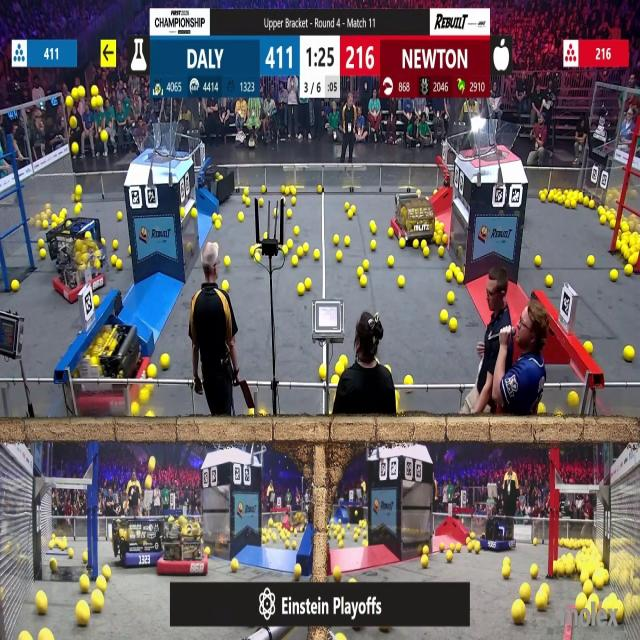ball_airborne: (76, 88, 85, 99), (148, 457, 155, 471), (66, 96, 74, 108), (145, 478, 152, 490), (92, 87, 100, 97), (99, 131, 105, 144), (96, 97, 103, 108), (72, 142, 78, 154), (70, 116, 76, 127), (75, 204, 81, 215), (76, 184, 82, 194)
ball_ground: (76, 606, 89, 628), (514, 601, 526, 624), (36, 593, 48, 614), (94, 592, 105, 612), (520, 585, 531, 603), (536, 593, 546, 611), (625, 346, 635, 362), (568, 392, 578, 407), (80, 578, 89, 594), (576, 594, 585, 610), (565, 564, 575, 578), (584, 582, 594, 595), (617, 606, 625, 622), (98, 578, 107, 592), (162, 354, 170, 369), (450, 318, 458, 332), (334, 566, 342, 580), (39, 630, 50, 640), (140, 390, 149, 402), (232, 559, 240, 572), (132, 404, 140, 417), (293, 564, 300, 578), (319, 364, 326, 378), (544, 275, 552, 287), (501, 566, 509, 578), (337, 362, 345, 374), (103, 566, 111, 578), (148, 364, 156, 376), (456, 273, 464, 285), (531, 565, 538, 578), (588, 255, 596, 266), (586, 343, 594, 354), (537, 405, 545, 416), (631, 253, 639, 264), (442, 311, 449, 323), (397, 276, 404, 288), (297, 283, 304, 295), (421, 556, 428, 568), (50, 560, 57, 572), (626, 266, 634, 276), (20, 632, 30, 640), (406, 376, 414, 386), (584, 199, 592, 209), (552, 562, 558, 575), (448, 291, 455, 302), (610, 271, 617, 282), (11, 281, 18, 292), (291, 255, 298, 266), (534, 255, 541, 266), (94, 295, 101, 306), (115, 262, 122, 272), (221, 281, 228, 291), (369, 222, 376, 232), (362, 262, 369, 272), (330, 376, 337, 386), (341, 355, 348, 365), (356, 268, 363, 278), (306, 279, 312, 290), (314, 249, 320, 260), (423, 247, 429, 258), (443, 235, 449, 246), (616, 240, 622, 251), (413, 240, 420, 249), (331, 236, 338, 245), (564, 200, 571, 209), (388, 256, 394, 266), (370, 240, 376, 250), (360, 277, 366, 287), (223, 256, 229, 266), (82, 553, 88, 563), (388, 229, 394, 239), (40, 249, 46, 259), (297, 247, 303, 257), (68, 550, 74, 560), (238, 212, 244, 222), (293, 225, 299, 235), (447, 272, 453, 282), (304, 244, 310, 254), (190, 209, 196, 219), (539, 192, 546, 200), (146, 413, 154, 420), (448, 552, 453, 563), (609, 219, 615, 228), (570, 200, 576, 209), (546, 192, 552, 201), (399, 239, 404, 249), (338, 251, 343, 261), (345, 237, 350, 247), (440, 247, 445, 257), (348, 210, 353, 220), (243, 199, 248, 209), (316, 185, 323, 192), (456, 542, 462, 550), (286, 210, 292, 218), (600, 216, 606, 224), (467, 542, 473, 550), (362, 539, 368, 547), (38, 240, 44, 248), (110, 255, 116, 263), (42, 220, 48, 228), (450, 265, 456, 273), (284, 540, 290, 548), (423, 545, 428, 554), (283, 247, 288, 256), (215, 220, 220, 229), (112, 241, 117, 250), (474, 542, 479, 551), (502, 558, 509, 564), (422, 241, 428, 248), (260, 185, 266, 192), (249, 410, 254, 418), (255, 254, 260, 262), (287, 240, 292, 248), (441, 542, 446, 550), (120, 212, 124, 222), (258, 200, 263, 208), (244, 187, 249, 195), (180, 208, 185, 216), (250, 247, 254, 256), (350, 576, 356, 582), (340, 540, 345, 547), (450, 543, 455, 550), (362, 530, 367, 537), (265, 233, 269, 241), (291, 198, 295, 206), (214, 214, 218, 222), (281, 185, 285, 193), (532, 538, 537, 544), (473, 534, 478, 540), (346, 203, 350, 210), (354, 534, 358, 541), (342, 533, 346, 540), (129, 247, 133, 254), (274, 209, 277, 217), (348, 523, 352, 529)
goal: (464, 121, 521, 160), (129, 128, 189, 160)
robot_blue: (113, 517, 160, 567), (198, 167, 234, 206), (480, 517, 514, 552)
robot_red: (66, 318, 138, 415), (50, 213, 110, 301), (158, 517, 209, 577), (393, 189, 435, 244)
